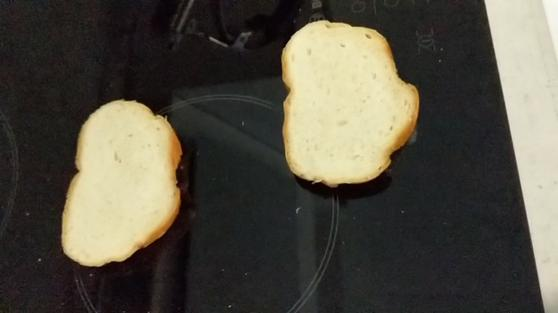white_bread: (277, 17, 426, 183), (66, 98, 184, 267)
